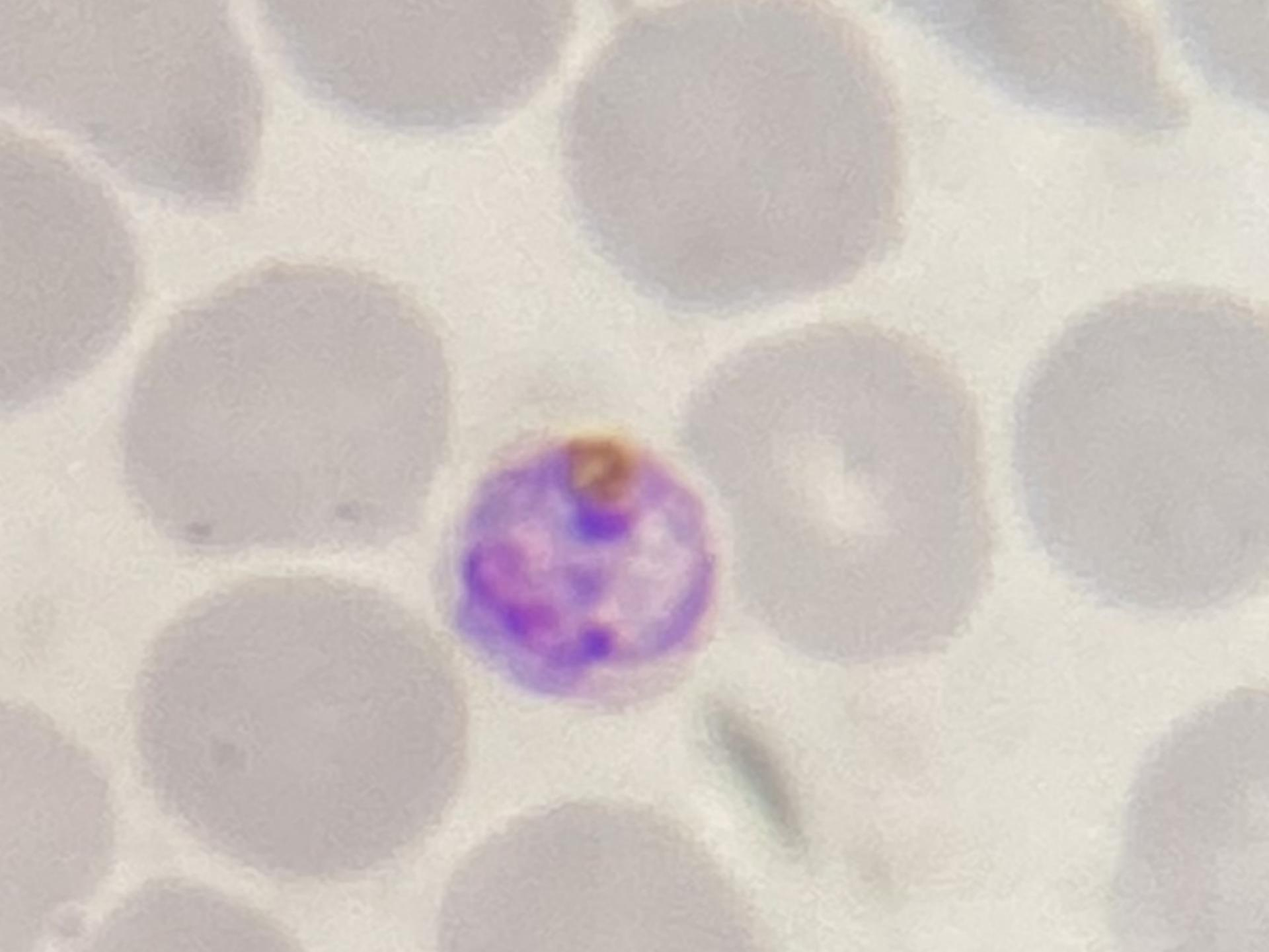Infected: (427, 424, 740, 714)
Uninfected: (564, 0, 931, 307), (679, 320, 999, 670), (132, 569, 479, 889), (123, 263, 452, 557), (1009, 287, 1269, 608)
